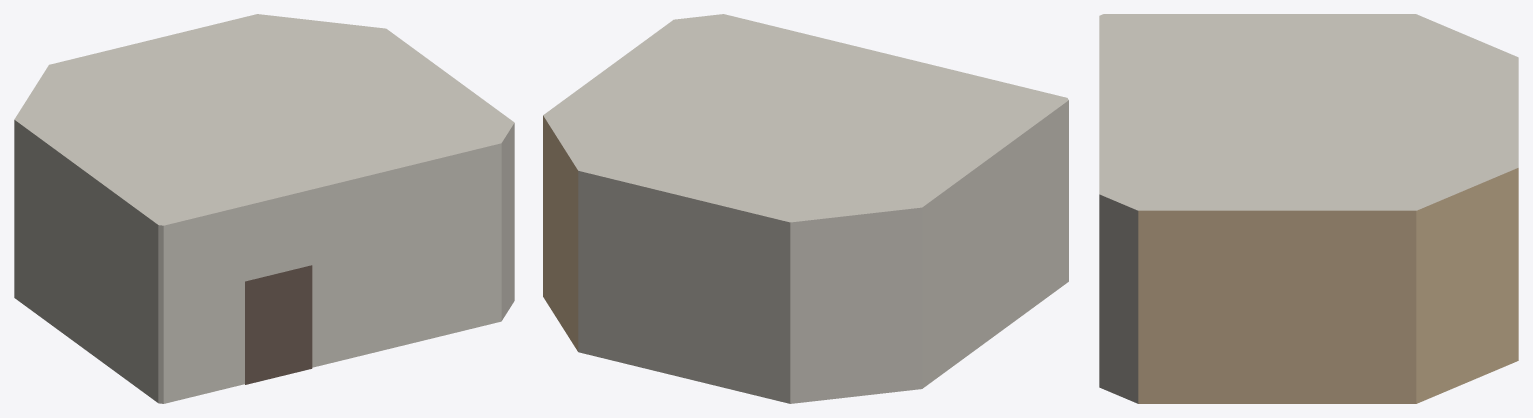
The model's file is loin-etape-1.glb.
The picture shows the model from 3 angles, left to right: view 1: azimuth 30°, elevation 25°; view 2: azimuth 150°, elevation 25°; view 3: azimuth 270°, elevation 25°; orthographic projection. The views are drawn at different scales.
Parts seen in each view (by area): view 1: loin; view 2: loin; view 3: loin.
Boxes of the visible parts, x1=… form: loin: x1=14, y1=14, x2=514, y2=403; loin: x1=543, y1=14, x2=1068, y2=403; loin: x1=1099, y1=14, x2=1518, y2=403.
Size of the model in its own units: 0.8156 by 0.3733 by 0.7381.
